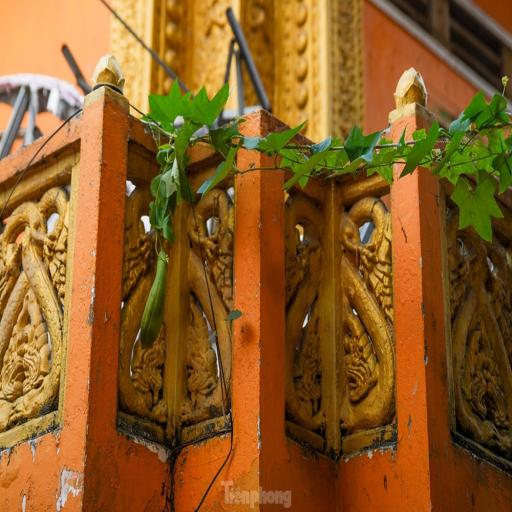ran: (337, 292, 389, 407), (120, 296, 167, 417), (286, 297, 328, 420), (179, 294, 223, 409), (481, 317, 512, 432), (454, 315, 487, 422), (24, 289, 52, 397), (0, 294, 25, 404)
